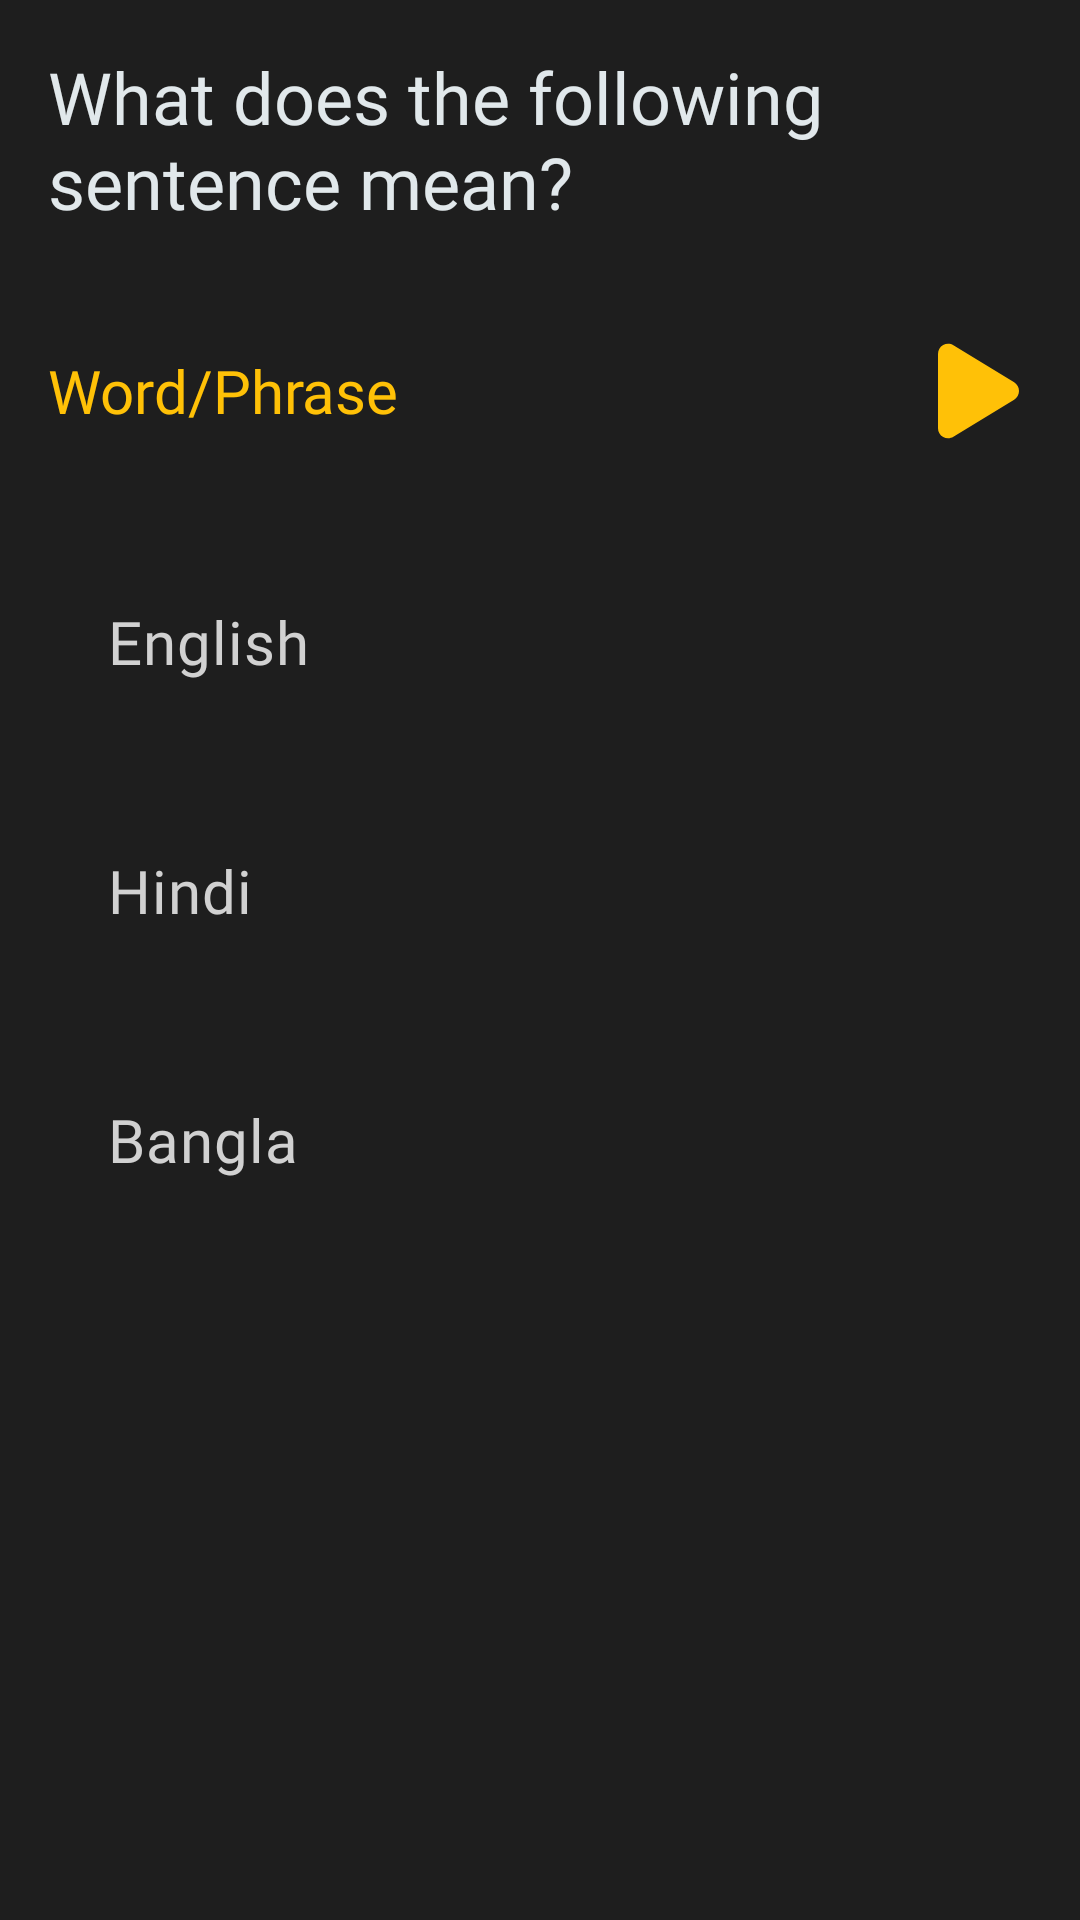

Screen size 1080px x 1920px. Icon name, then its center in pixels as [x,y]:
play: [978,391]
